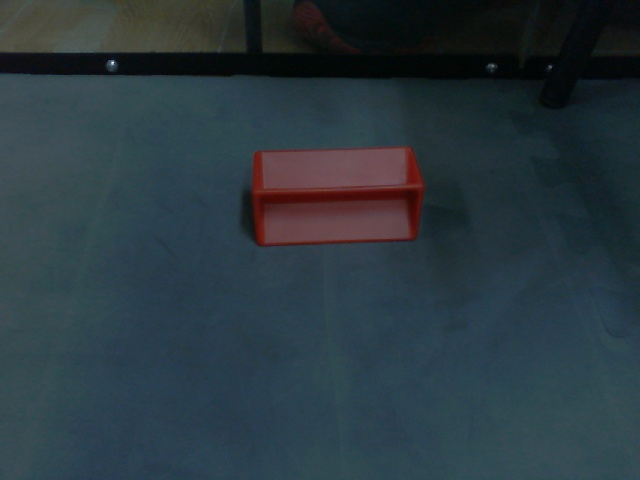RedSample: (247, 144, 426, 249)
